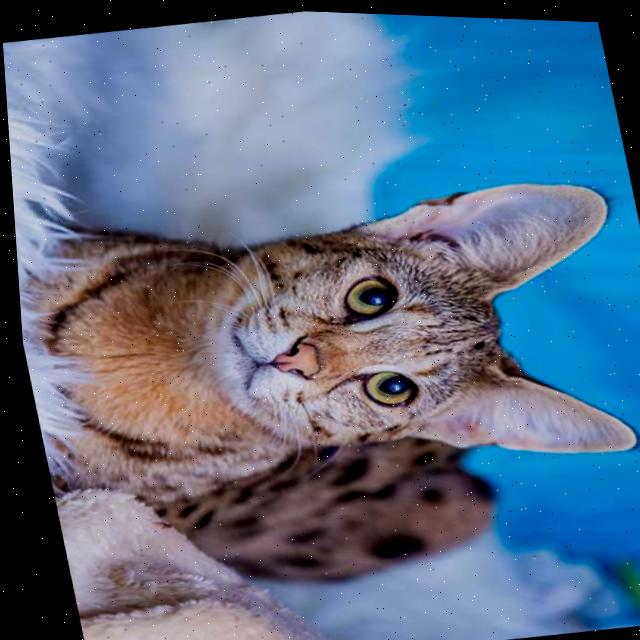Savannah: (7, 134, 640, 630)
